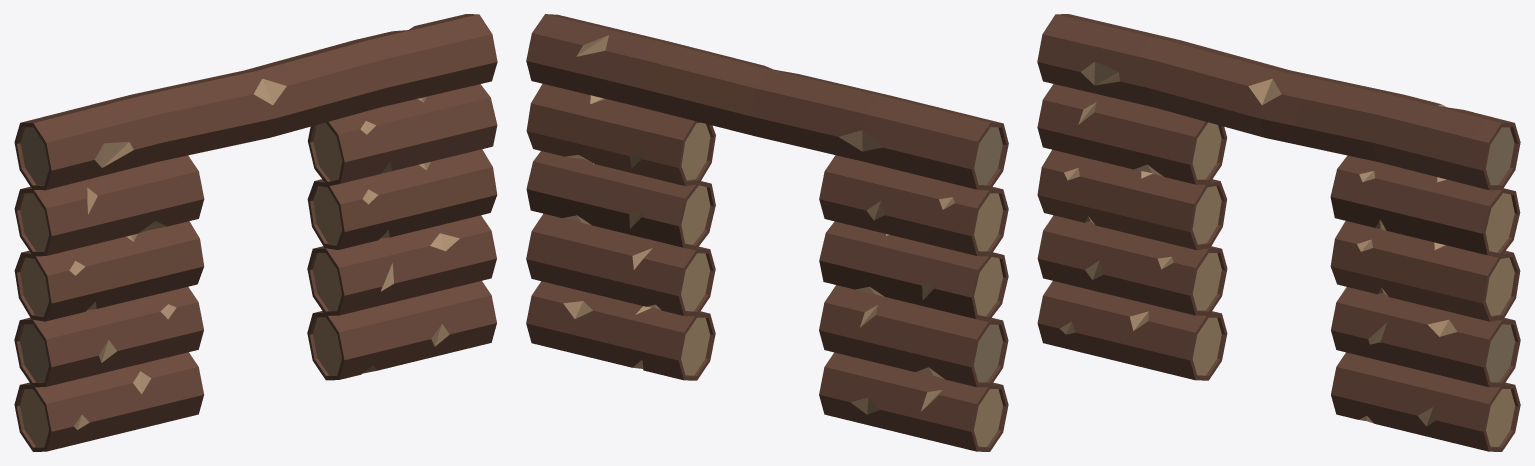
Rendered from Log Doorway.fbx.
3 views of the same model, side by side, from view 1: azimuth 30°, elevation 25°; view 2: azimuth 150°, elevation 25°; view 3: azimuth 330°, elevation 25° (orthographic).
Visible parts, largest first — view 1: Log Doorway Part 09, Log Doorway Part 07, Log Doorway Part 04, Log Doorway Part 03, Log Doorway Part 06, Log Doorway Part 05, Log Doorway Part 08, Log Doorway Part 01, Log Doorway Part 02; view 2: Log Doorway Part 09, Log Doorway Part 04, Log Doorway Part 03, Log Doorway Part 08, Log Doorway Part 07, Log Doorway Part 01, Log Doorway Part 02, Log Doorway Part 05, Log Doorway Part 06; view 3: Log Doorway Part 09, Log Doorway Part 08, Log Doorway Part 04, Log Doorway Part 03, Log Doorway Part 06, Log Doorway Part 07, Log Doorway Part 05, Log Doorway Part 01, Log Doorway Part 02.
Boxes of the visible parts, x1=… form: Log Doorway Part 09: x1=14, y1=14, x2=497, y2=190; Log Doorway Part 07: x1=14, y1=155, x2=204, y2=256; Log Doorway Part 04: x1=307, y1=215, x2=496, y2=315; Log Doorway Part 03: x1=14, y1=287, x2=203, y2=387; Log Doorway Part 06: x1=307, y1=149, x2=497, y2=249; Log Doorway Part 05: x1=14, y1=221, x2=204, y2=321; Log Doorway Part 08: x1=308, y1=84, x2=497, y2=185; Log Doorway Part 01: x1=14, y1=352, x2=204, y2=451; Log Doorway Part 02: x1=307, y1=281, x2=496, y2=380; Log Doorway Part 09: x1=526, y1=14, x2=1008, y2=190; Log Doorway Part 04: x1=526, y1=213, x2=715, y2=316; Log Doorway Part 03: x1=819, y1=285, x2=1008, y2=387; Log Doorway Part 08: x1=526, y1=83, x2=715, y2=186; Log Doorway Part 07: x1=819, y1=155, x2=1008, y2=256; Log Doorway Part 01: x1=819, y1=352, x2=1008, y2=451; Log Doorway Part 02: x1=526, y1=281, x2=715, y2=380; Log Doorway Part 05: x1=819, y1=221, x2=1008, y2=321; Log Doorway Part 06: x1=526, y1=151, x2=715, y2=250; Log Doorway Part 09: x1=1037, y1=14, x2=1520, y2=190; Log Doorway Part 08: x1=1330, y1=155, x2=1520, y2=257; Log Doorway Part 04: x1=1331, y1=287, x2=1520, y2=387; Log Doorway Part 03: x1=1037, y1=215, x2=1227, y2=315; Log Doorway Part 06: x1=1330, y1=221, x2=1520, y2=321; Log Doorway Part 07: x1=1037, y1=84, x2=1227, y2=184; Log Doorway Part 05: x1=1037, y1=149, x2=1226, y2=250; Log Doorway Part 01: x1=1037, y1=281, x2=1227, y2=380; Log Doorway Part 02: x1=1331, y1=352, x2=1520, y2=451.
Size of the model in its own units: 2.77 by 1.96 by 0.4129.
